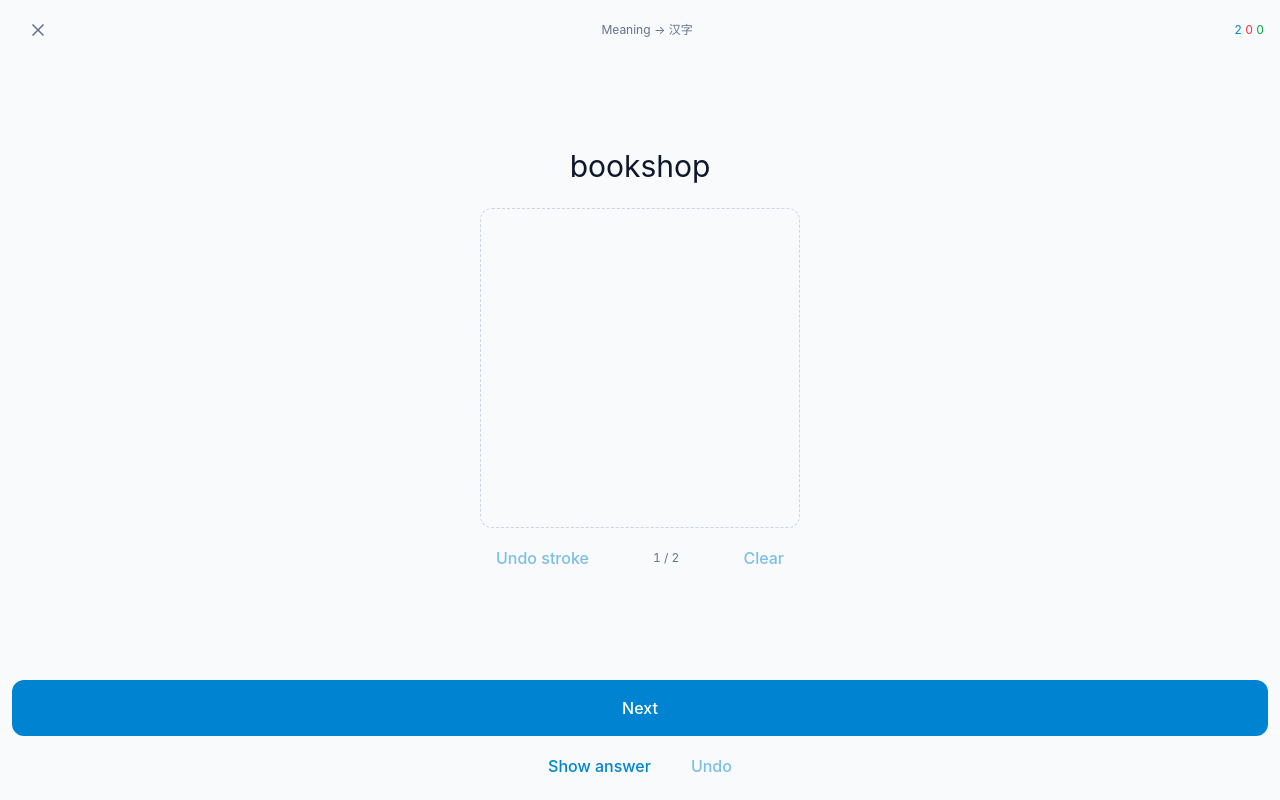
Test case: StudyPage › writing cards › starts the next card back at the first character with a clean box
This screenshot has width=1280, height=800.
Press the mouse on the picture named "Draw character 1 of 2": (640, 368) [481,209,799,527]
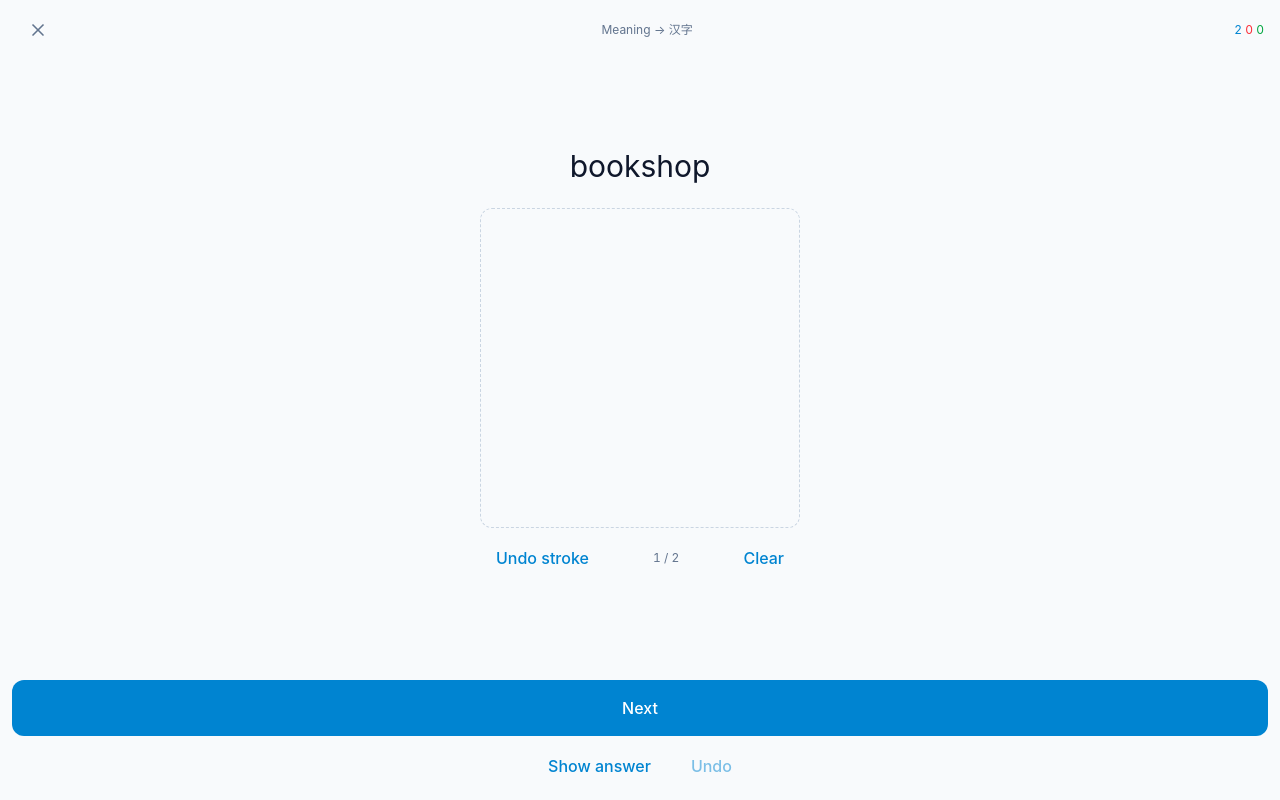
Expected: the button "Undo stroke" is enabled, [480,536,605,580]
Click the button "Next": (640, 708) [12,680,1268,736]
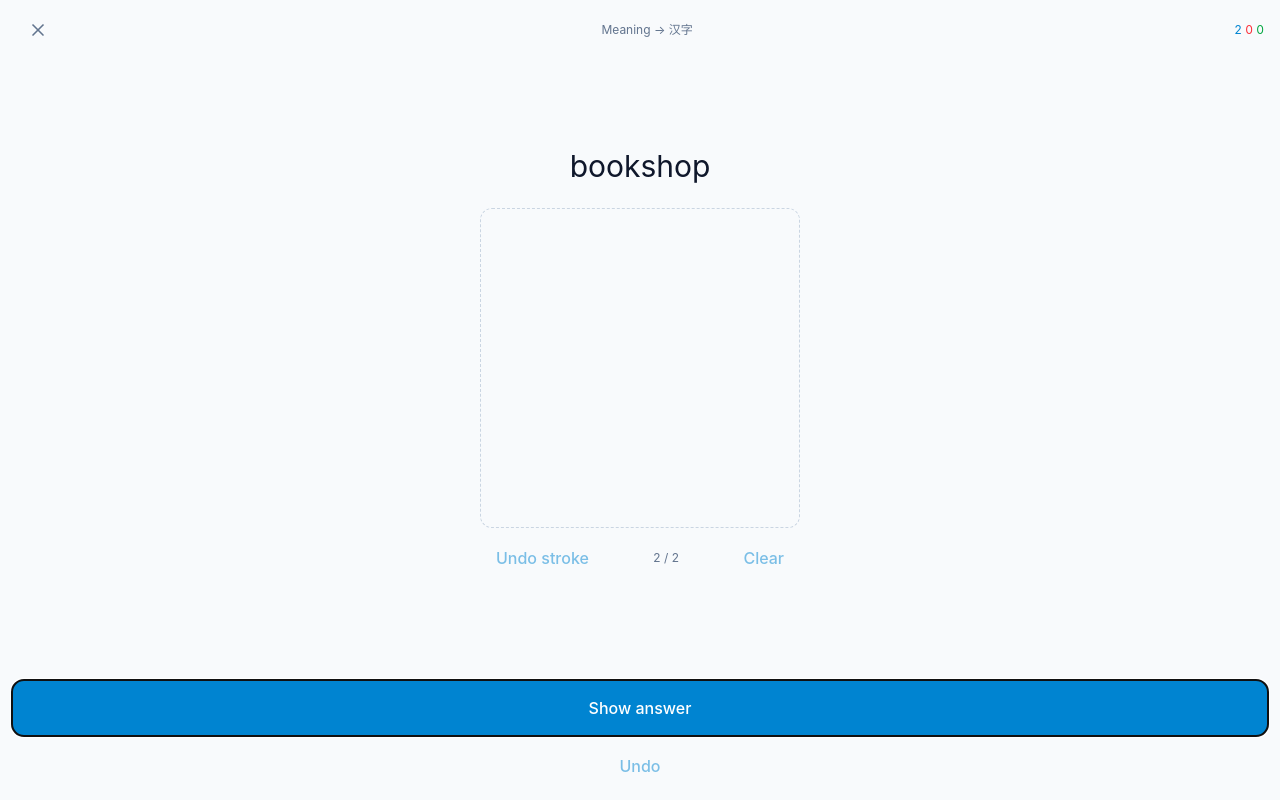
Click the button "Show answer": (640, 708) [12,680,1268,736]
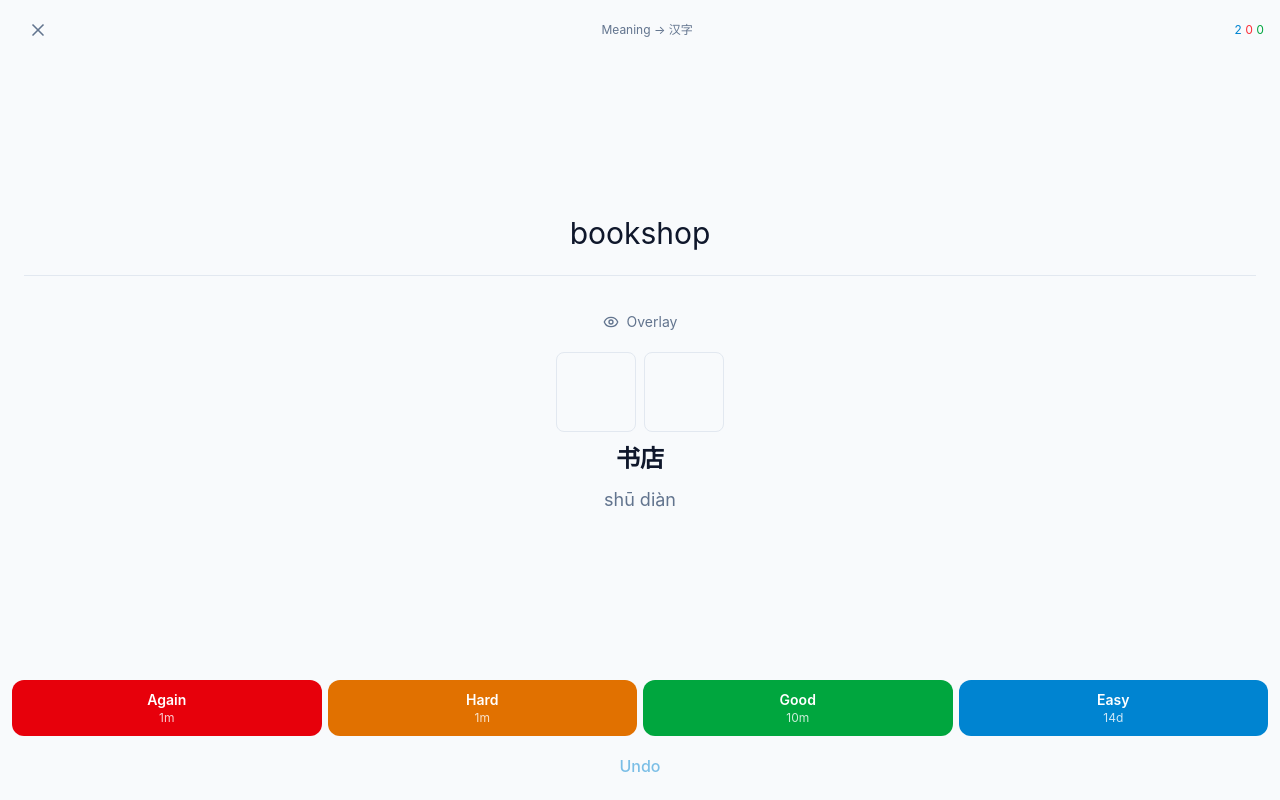
Click the button "Easy 14d": (1113, 708) [958,680,1268,736]
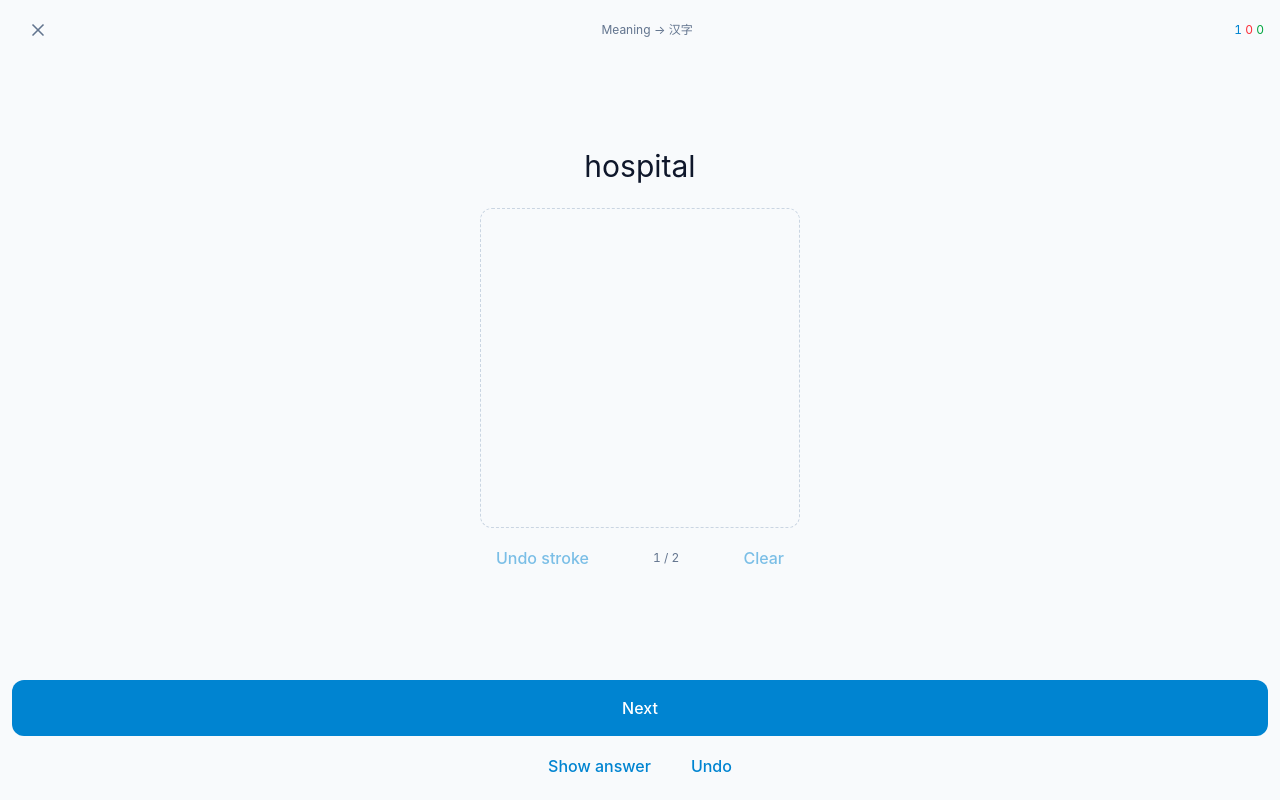
Expected: the text with test id "writing-progress" reads "1 / 2", [653,550,679,566]
Expected: the button "Undo stroke" is disabled, [480,536,605,580]
